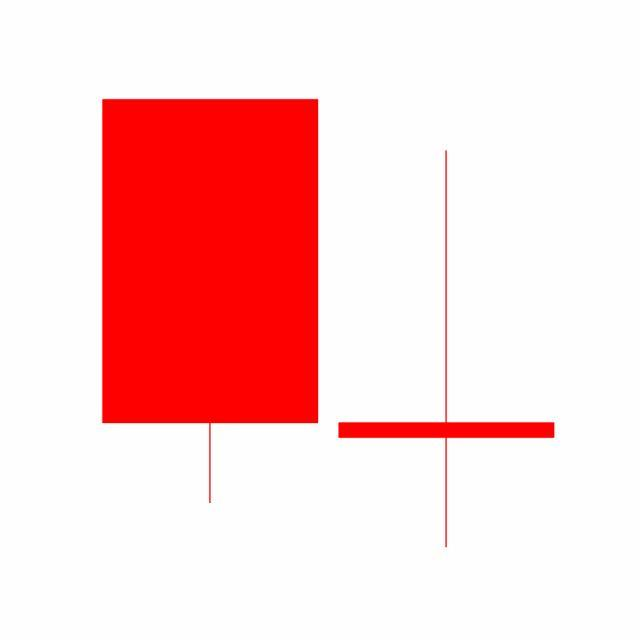Spinning Top: (328, 147, 566, 553)
